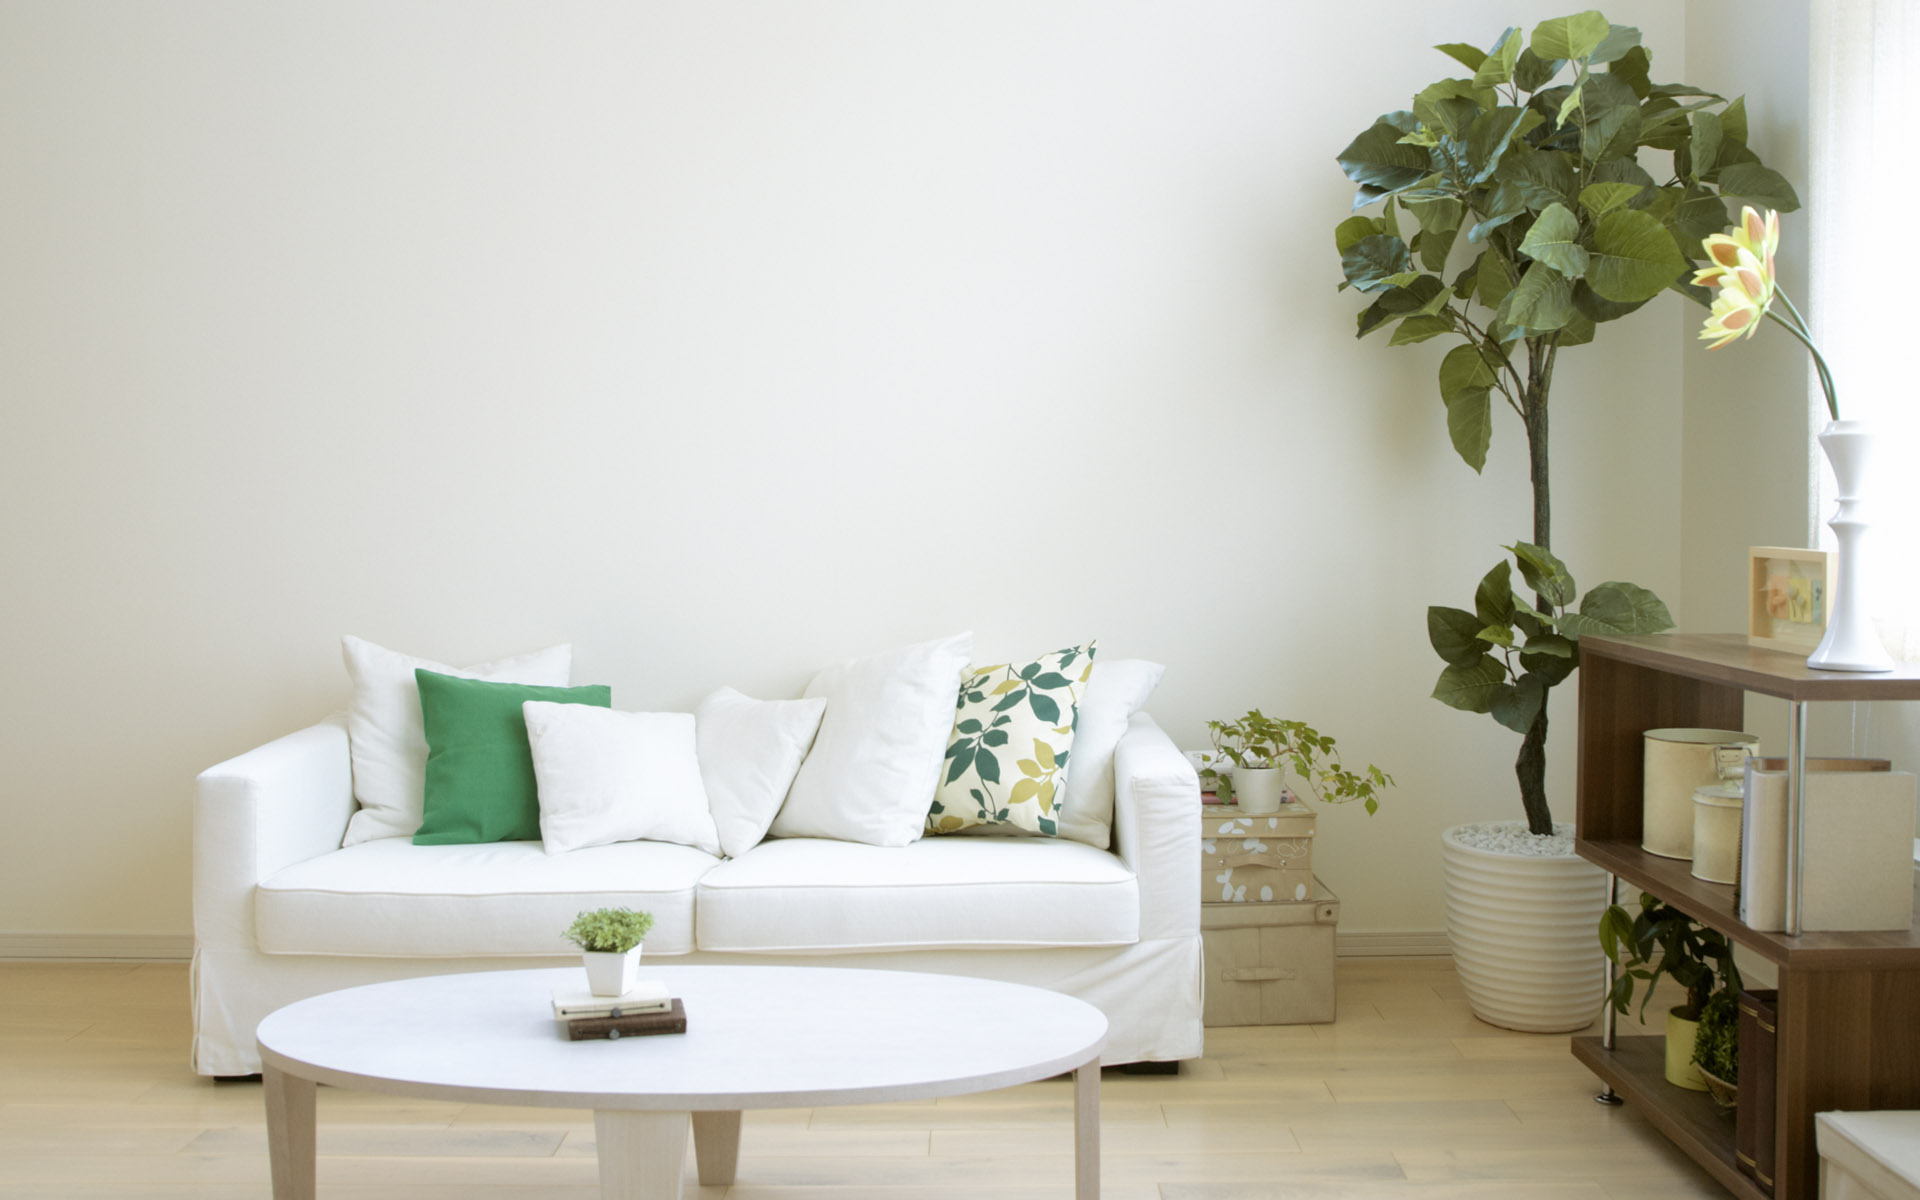chair: (191, 693, 1205, 1118)
